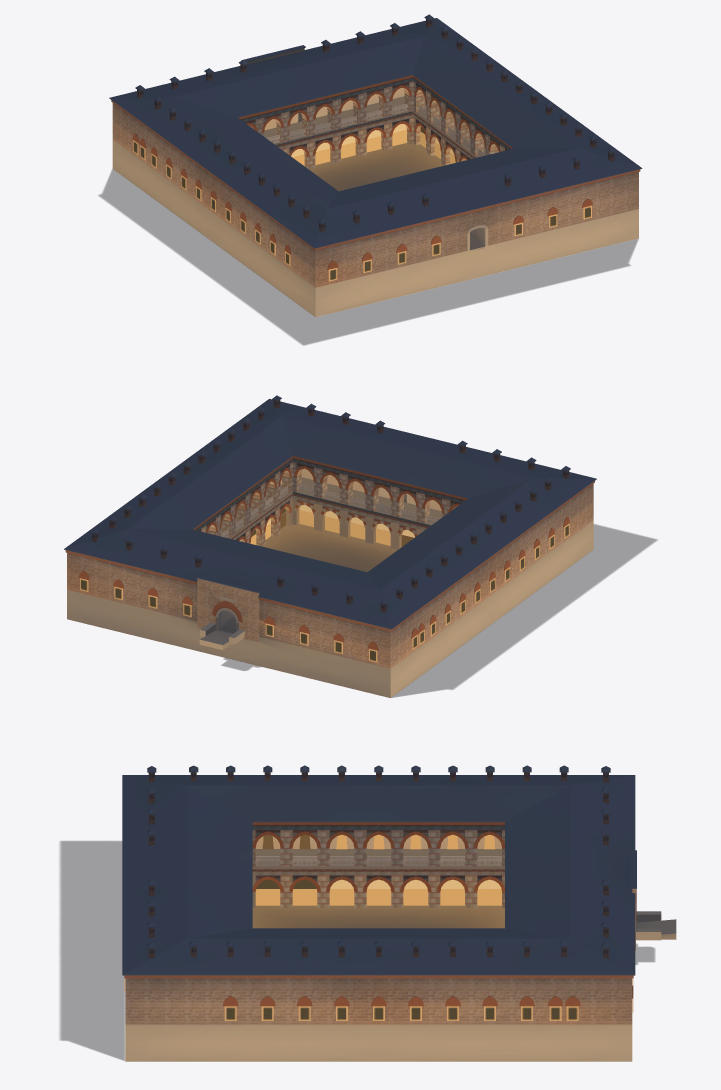
The model's file is emir-hani_v08_night_harita_pisik.glb.
3 views of the same model, one above another, from view 1: azimuth 30°, elevation 25°; view 2: azimuth 150°, elevation 25°; view 3: azimuth 270°, elevation 25° (orthographic). The views are drawn at different scales.
Parts seen in each view (by area): view 1: Emir_Hani, Harita_Golge, Avlu_Revaklari, Han_Avlu, Girisler; view 2: Emir_Hani, Avlu_Revaklari, Harita_Golge, Girisler, Han_Avlu; view 3: Emir_Hani, Avlu_Revaklari, Harita_Golge, Han_Avlu, Girisler.
Boxes of the visible parts, x1=… form: Emir_Hani: x1=109, y1=14, x2=642, y2=317; Harita_Golge: x1=98, y1=169, x2=638, y2=345; Avlu_Revaklari: x1=238, y1=75, x2=512, y2=168; Han_Avlu: x1=309, y1=143, x2=443, y2=191; Girisler: x1=241, y1=45, x2=488, y2=251; Emir_Hani: x1=64, y1=395, x2=596, y2=697; Avlu_Revaklari: x1=193, y1=456, x2=467, y2=549; Harita_Golge: x1=221, y1=524, x2=657, y2=697; Girisler: x1=196, y1=575, x2=260, y2=649; Han_Avlu: x1=262, y1=523, x2=397, y2=572; Emir_Hani: x1=122, y1=765, x2=635, y2=1061; Avlu_Revaklari: x1=252, y1=822, x2=504, y2=907; Harita_Golge: x1=60, y1=841, x2=654, y2=1060; Han_Avlu: x1=252, y1=905, x2=504, y2=928; Girisler: x1=631, y1=850, x2=676, y2=950.
Bounding box in the file's own units: 59.07 × 11.99 × 68.36.
Materials: 2 (2 with a texture image).
